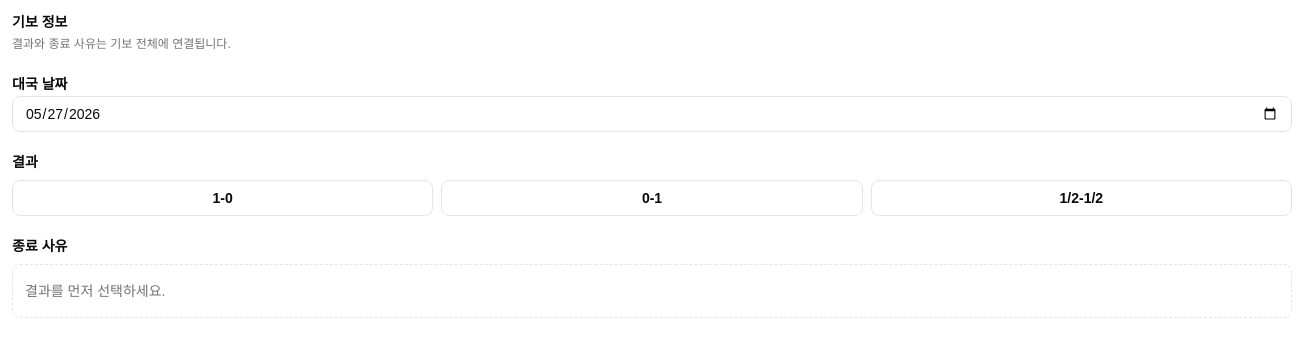
GameMetadataEditor › 승부 결과를 선택하면 시간패를 포함한 승부 종료 사유를 보여줘야 한다
Click the button "1-0": (223, 198) left=12, top=180, right=433, bottom=216
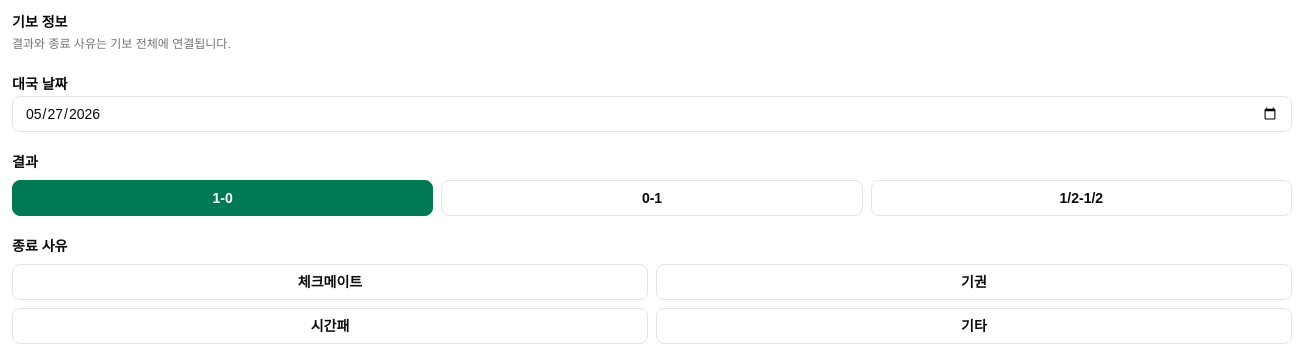
expect the button "체크메이트" is shown: met, box left=12, top=264, right=648, bottom=300
expect the button "기권" is shown: met, box left=656, top=264, right=1292, bottom=300
expect the button "시간패" is shown: met, box left=12, top=308, right=648, bottom=344
